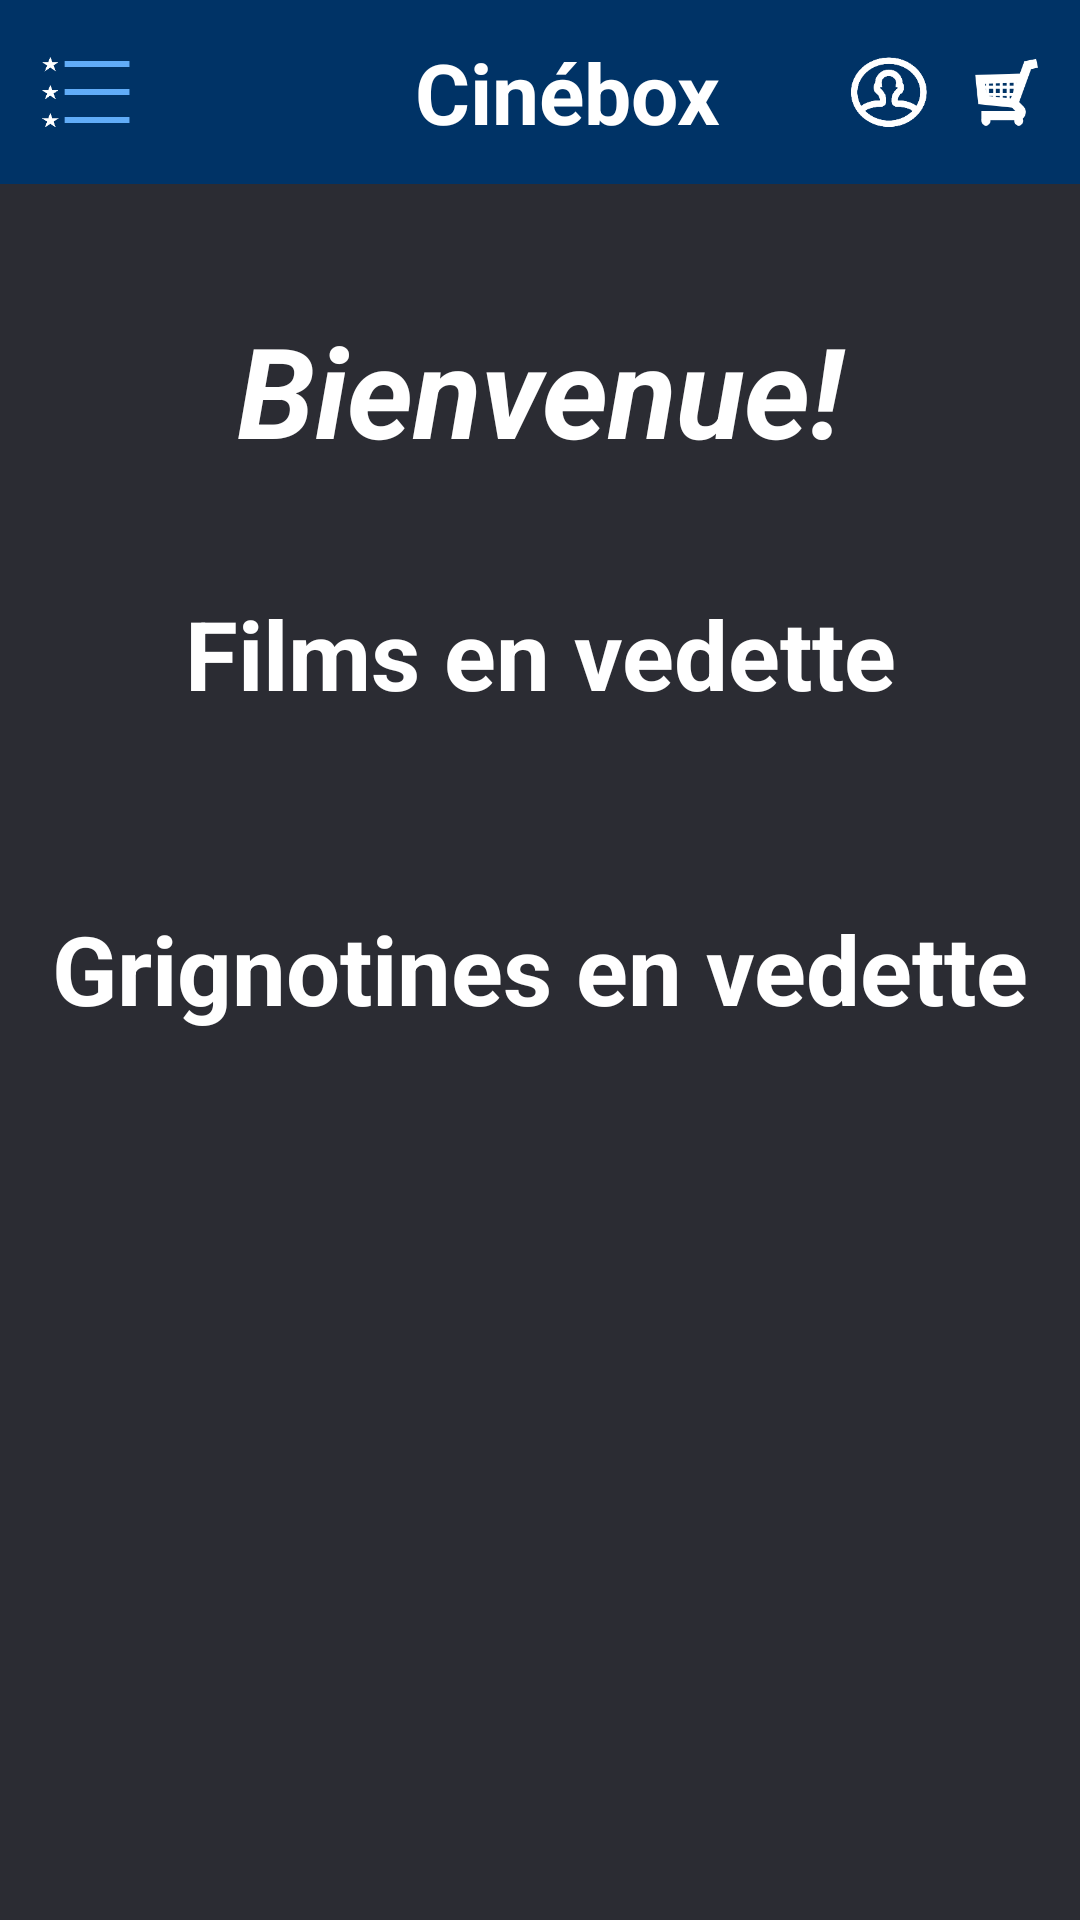

Named icons in this screenshot (1080*1920) and their centers, (x,y):
cart: (1006,92)
list: (86,92)
profil: (889,92)
